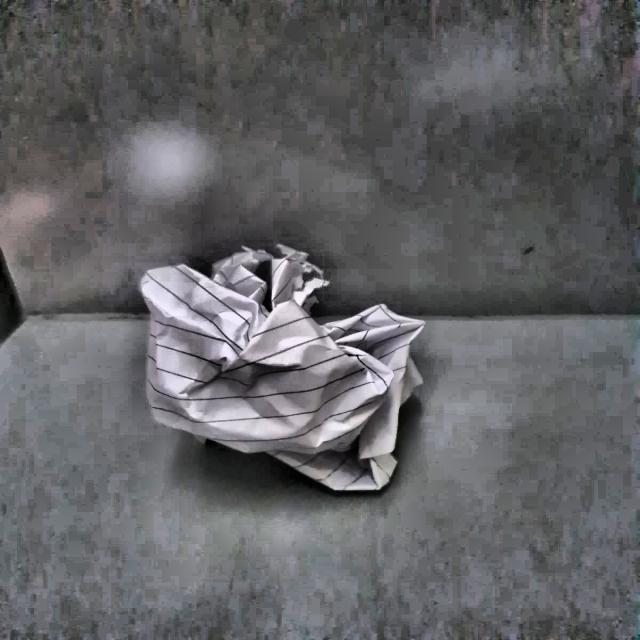Paper: (128, 247, 455, 499)
